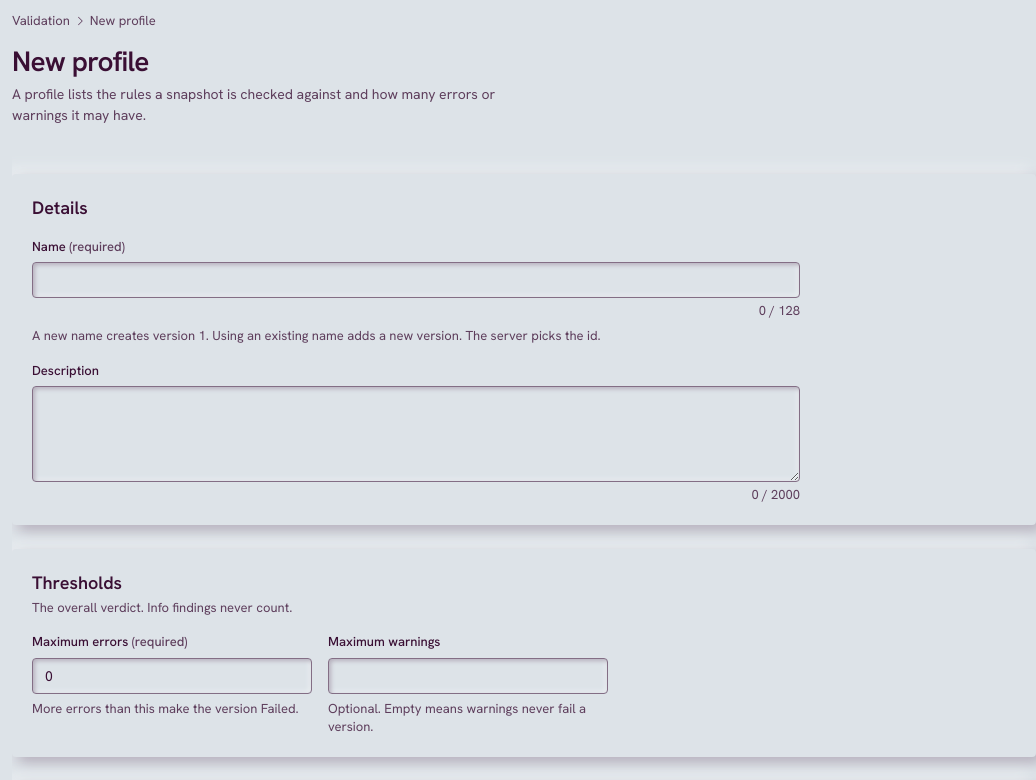
Test: ProfileForm › keeps Create disabled until valid, shows the name error after blur, and counts characters
The width and height of the screenshot is (1036, 780).
Expected: the text "0 / 128" is shown, [759, 302, 800, 320]
Expected: the text "Name is required" is not shown
Click the field labelled "Name (required)". click: (416,280)
box: [32, 262, 800, 298]
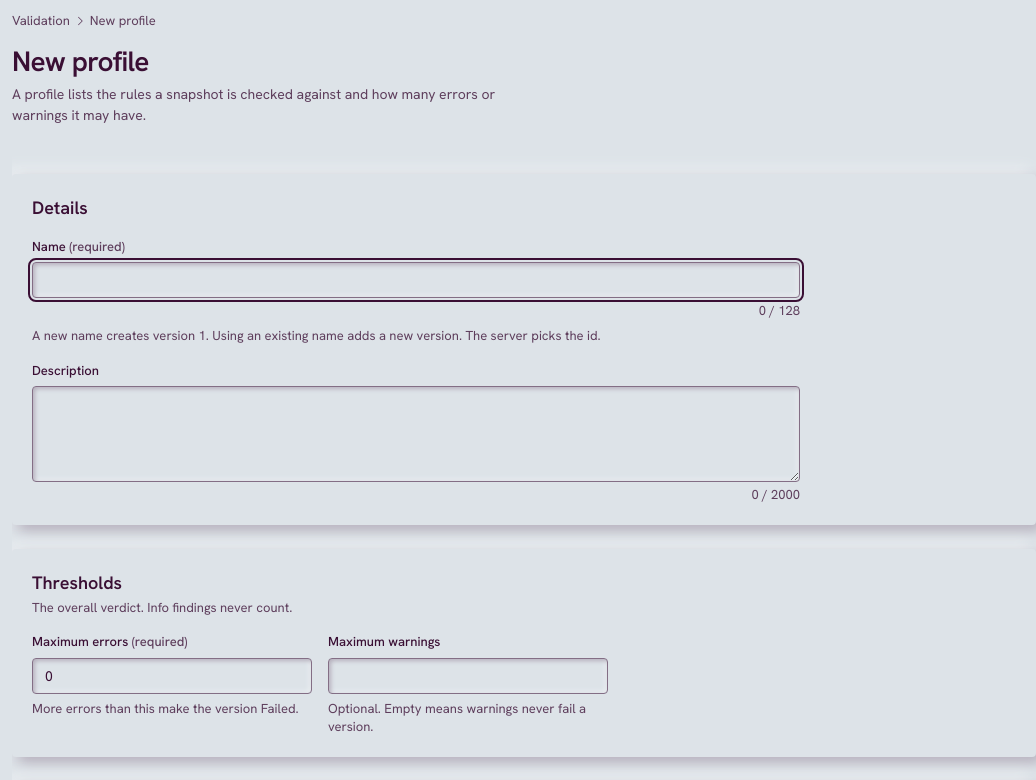
Press Tab
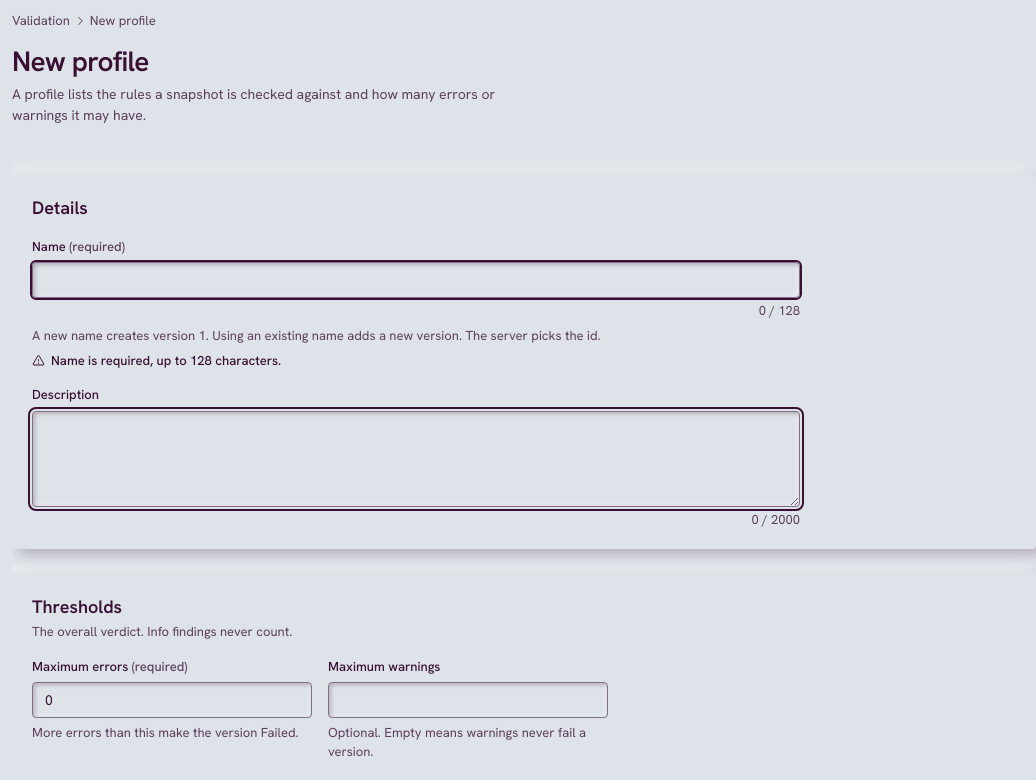
Expected: the text "Name is required, up to 128 characters." is shown, [32, 352, 281, 369]
Type "My profile" into the field labelled "Name (required)". click: (416,280)
box: [32, 262, 800, 298]
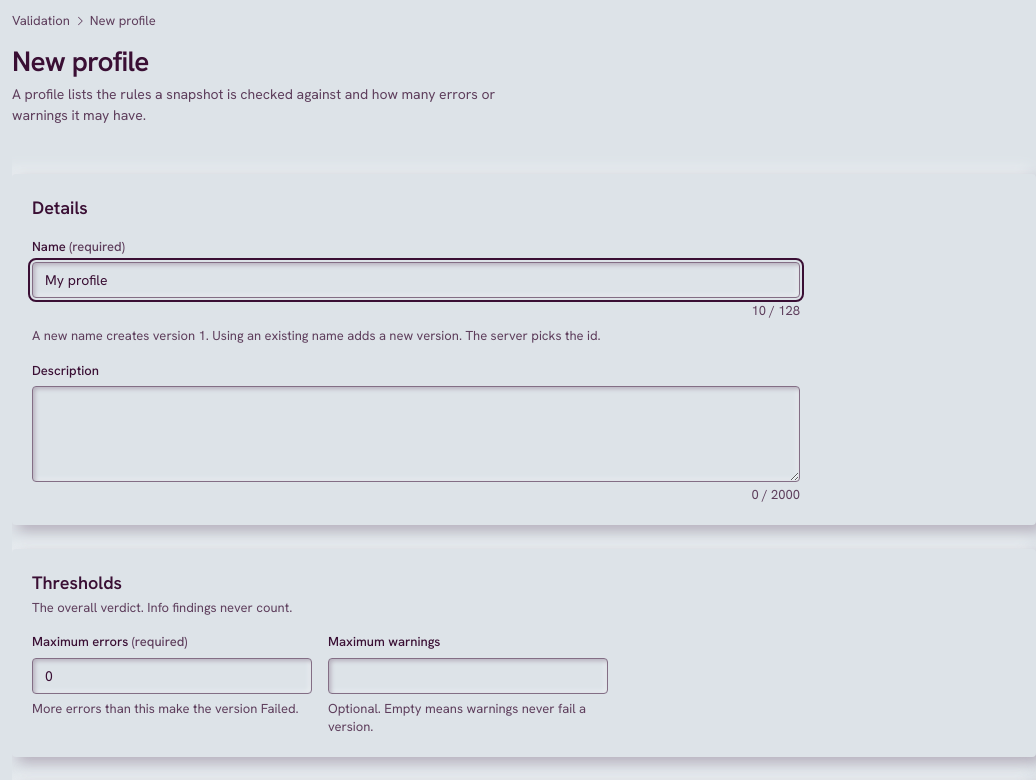
Expected: the text "10 / 128" is shown, [751, 302, 800, 320]
Expected: the text "Name is required" is gone
